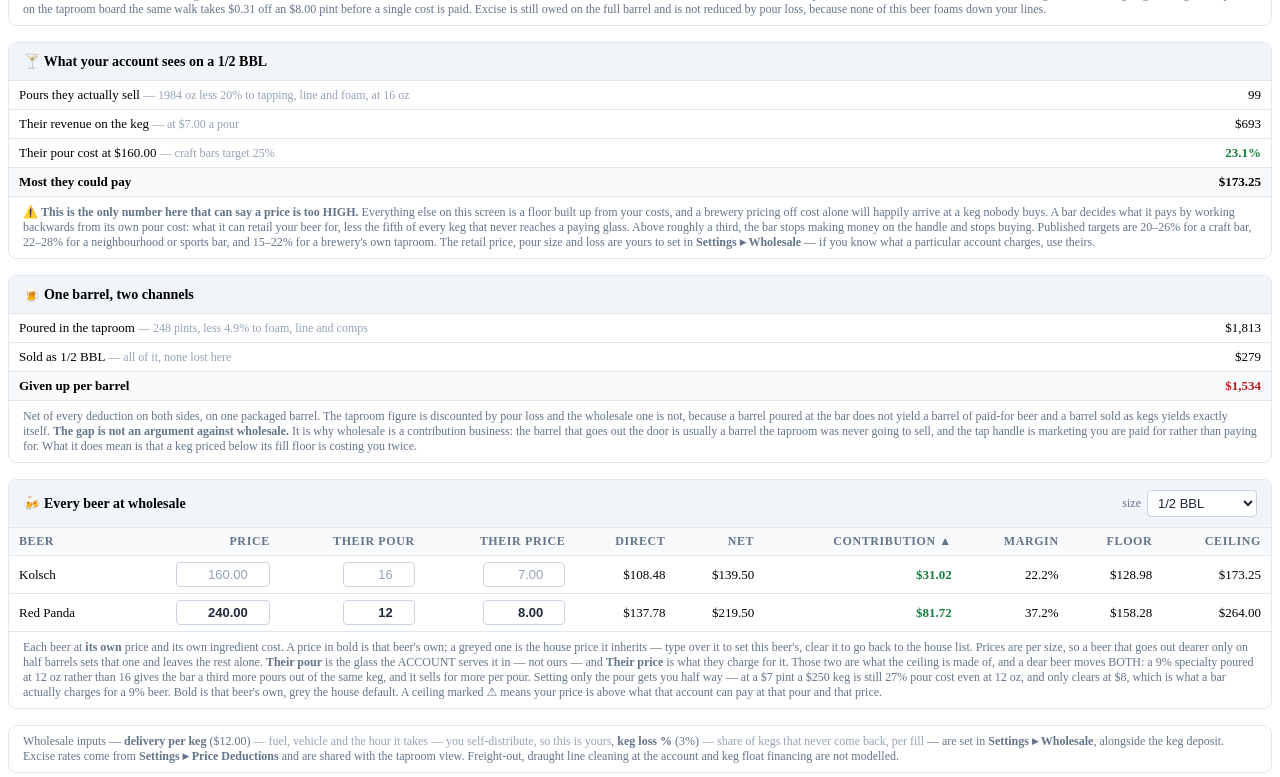
WholesalePanel › the stat tiles › follows the selected size
The image size is (1280, 777).
(page scrolled)
Select "1/4 BBL" in the dropdown labelled "size". click: (1202, 504)
box: [1147,490,1257,517]
(page scrolled)
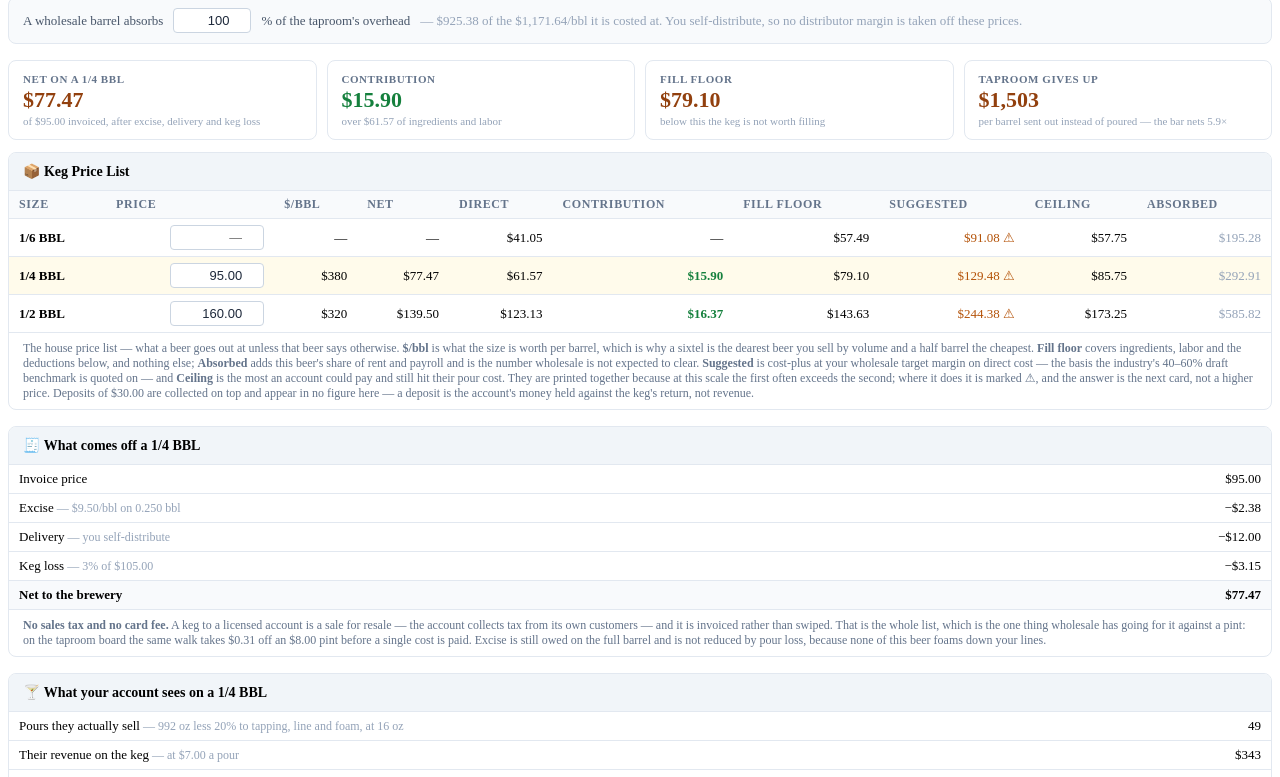
Result: the text "Net on a 1/4 BBL" is shown at [23,73,124,85]
